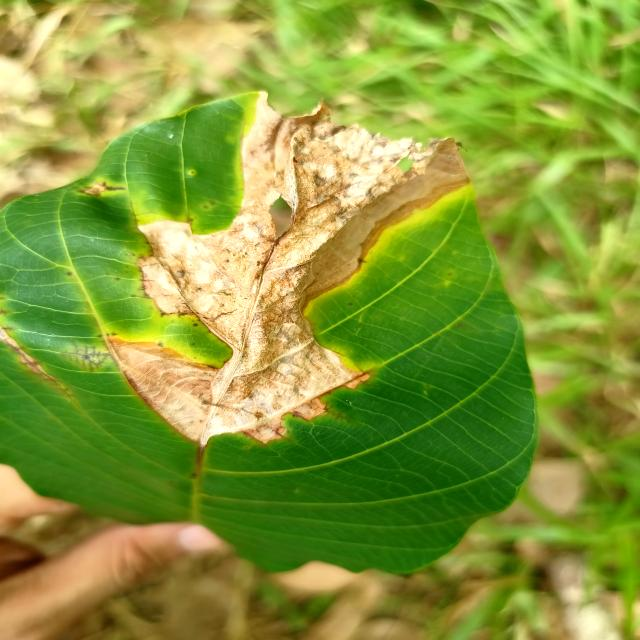Corynespora: (0, 319, 73, 404), (64, 341, 113, 374)
Leaf-Blight: (109, 92, 472, 446)
